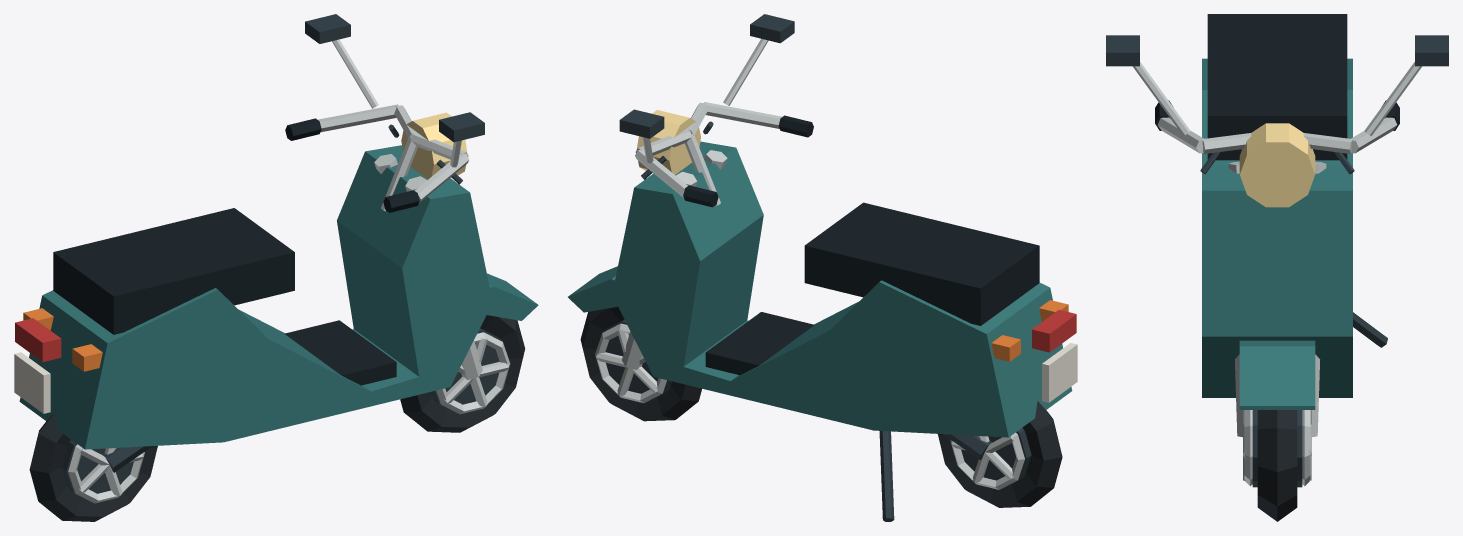
The model's file is b03_stepthrough_motor_scooter.glb.
3 views of the same model, side by side, from view 1: azimuth 30°, elevation 25°; view 2: azimuth 150°, elevation 25°; view 3: azimuth 270°, elevation 25° (orthographic). The views are drawn at different scales.
Visible parts, largest first — view 1: b03_stepthrough_motor_scooter; view 2: b03_stepthrough_motor_scooter; view 3: b03_stepthrough_motor_scooter.
Boxes of the visible parts, <box> form: b03_stepthrough_motor_scooter: <box>14,14,538,521</box>; b03_stepthrough_motor_scooter: <box>568,14,1077,521</box>; b03_stepthrough_motor_scooter: <box>1106,14,1448,521</box>.
Bounding box in the file's own units: 1.75 × 1.27 × 0.91.
